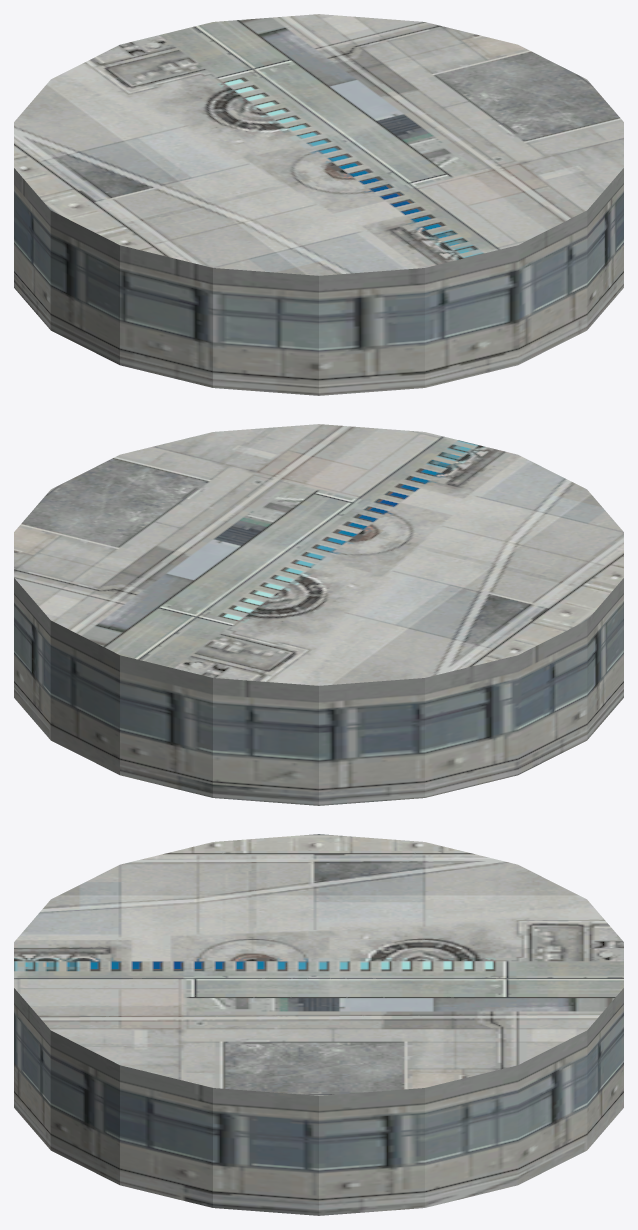
The model's file is eaw_corBuild5.glb.
The picture shows the model from 3 angles, top to bottom: view 1: azimuth 30°, elevation 25°; view 2: azimuth 150°, elevation 25°; view 3: azimuth 270°, elevation 25°; orthographic projection.
Visible parts, largest first — view 1: disk_0; view 2: disk_0; view 3: disk_0.
Part boxes in pixels (x1,y1,x2,y2): disk_0: (14,14,623,395); disk_0: (14,424,623,805); disk_0: (14,834,623,1215).
Size of the model in its own units: 9.14 by 1.95 by 9.
1 material, 1 textured.
